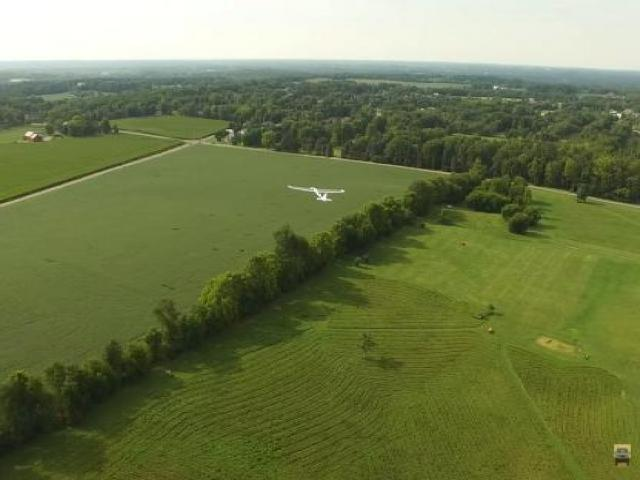uav: (283, 173, 354, 212)
